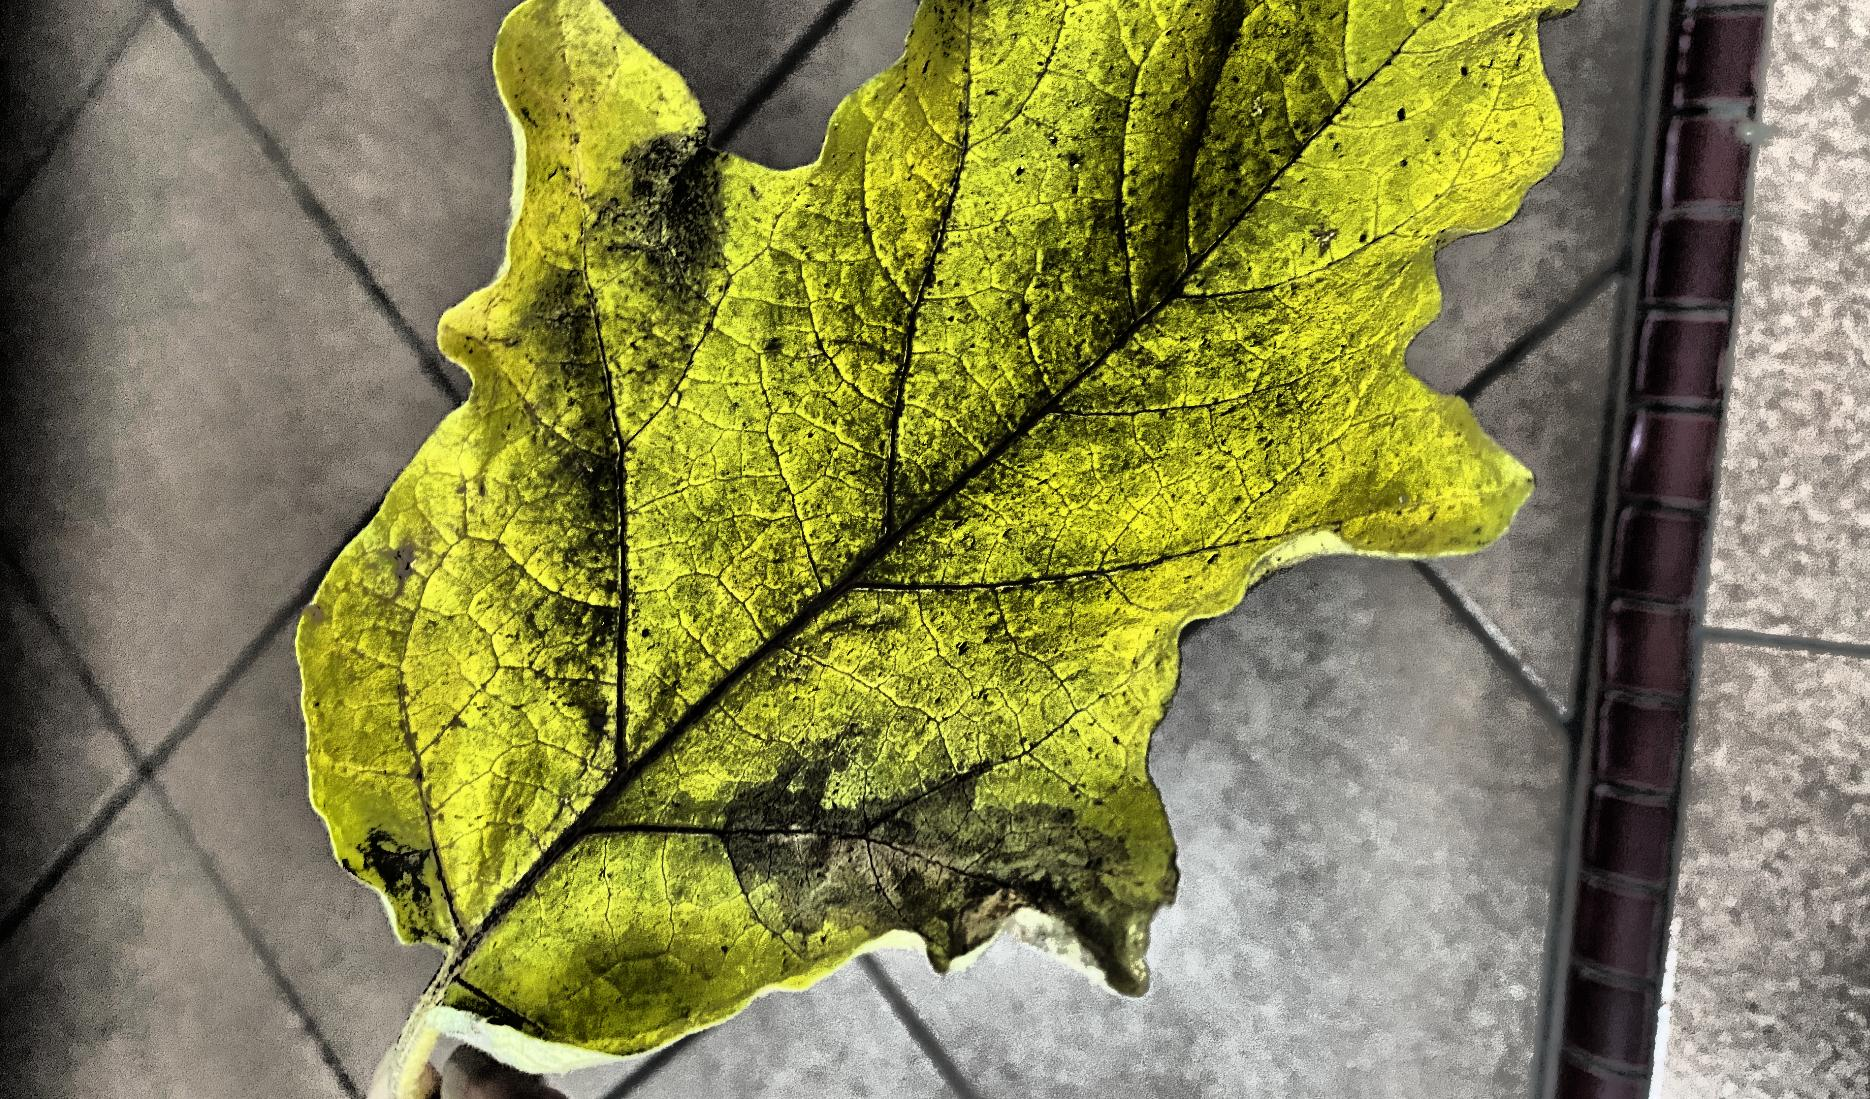Critical Stress: (0, 86, 1365, 1099)
